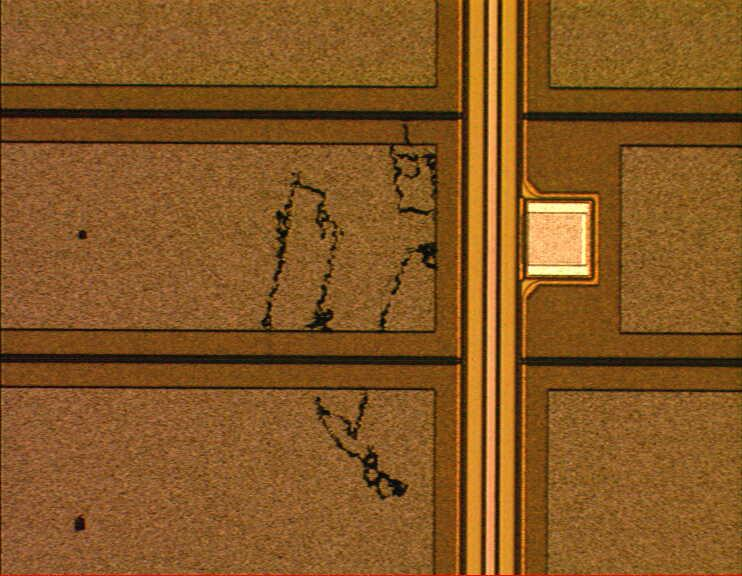SCRATCH: (252, 110, 453, 506)
